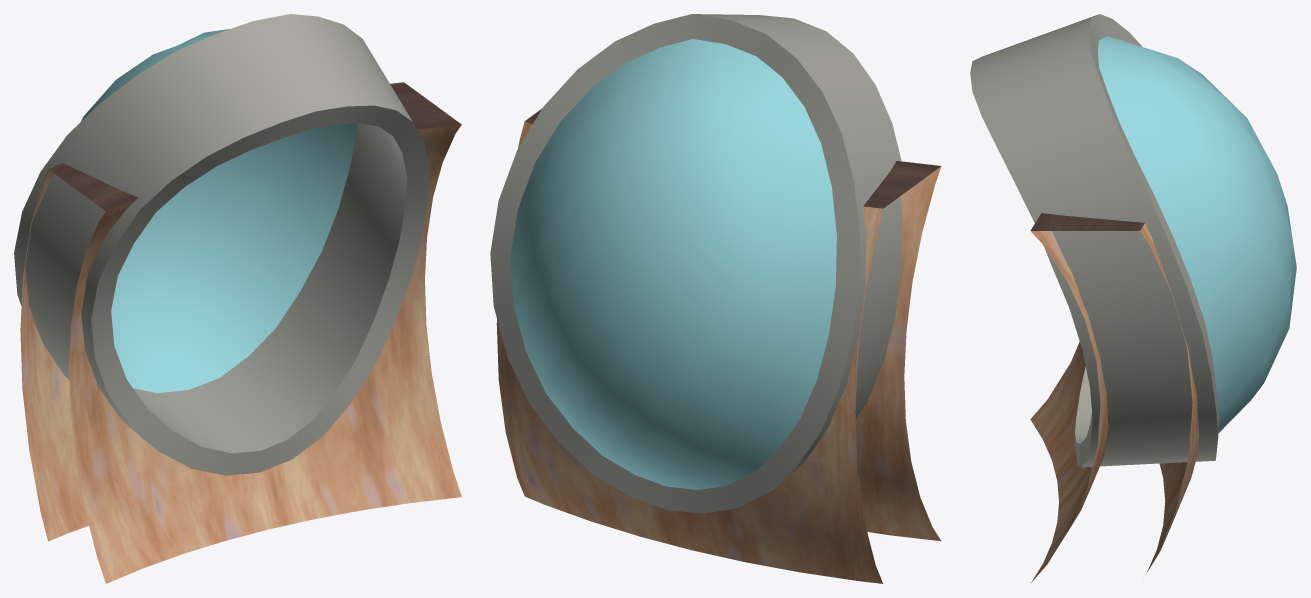
The model's file is FI_018_francos_building_wall_window_big.glb.
The picture shows the model from 3 angles, left to right: view 1: azimuth 30°, elevation 25°; view 2: azimuth 150°, elevation 25°; view 3: azimuth 270°, elevation 25°; orthographic projection. The views are drawn at different scales.
Parts seen in each view (by area): view 1: window_frame, wall_big_hole, glass_big_out, glass_big_in; view 2: glass_big_out, window_frame, wall_big_hole, glass_big_in; view 3: window_frame, glass_big_out, wall_big_hole, glass_big_in.
Boxes of the visible parts, x1,y1,x2,y2 form: window_frame: [14, 14, 429, 475]; wall_big_hole: [20, 82, 461, 583]; glass_big_out: [81, 29, 357, 393]; glass_big_in: [84, 29, 356, 392]; glass_big_out: [510, 39, 836, 489]; window_frame: [490, 14, 902, 513]; wall_big_hole: [496, 108, 941, 583]; glass_big_in: [511, 39, 836, 489]; window_frame: [970, 14, 1218, 467]; glass_big_out: [1097, 36, 1296, 433]; wall_big_hole: [1030, 213, 1199, 582]; glass_big_in: [1098, 37, 1296, 431].
Size of the model in its own units: 3.02 by 4 by 2.52.
Materials: 4 (2 with a texture image).
